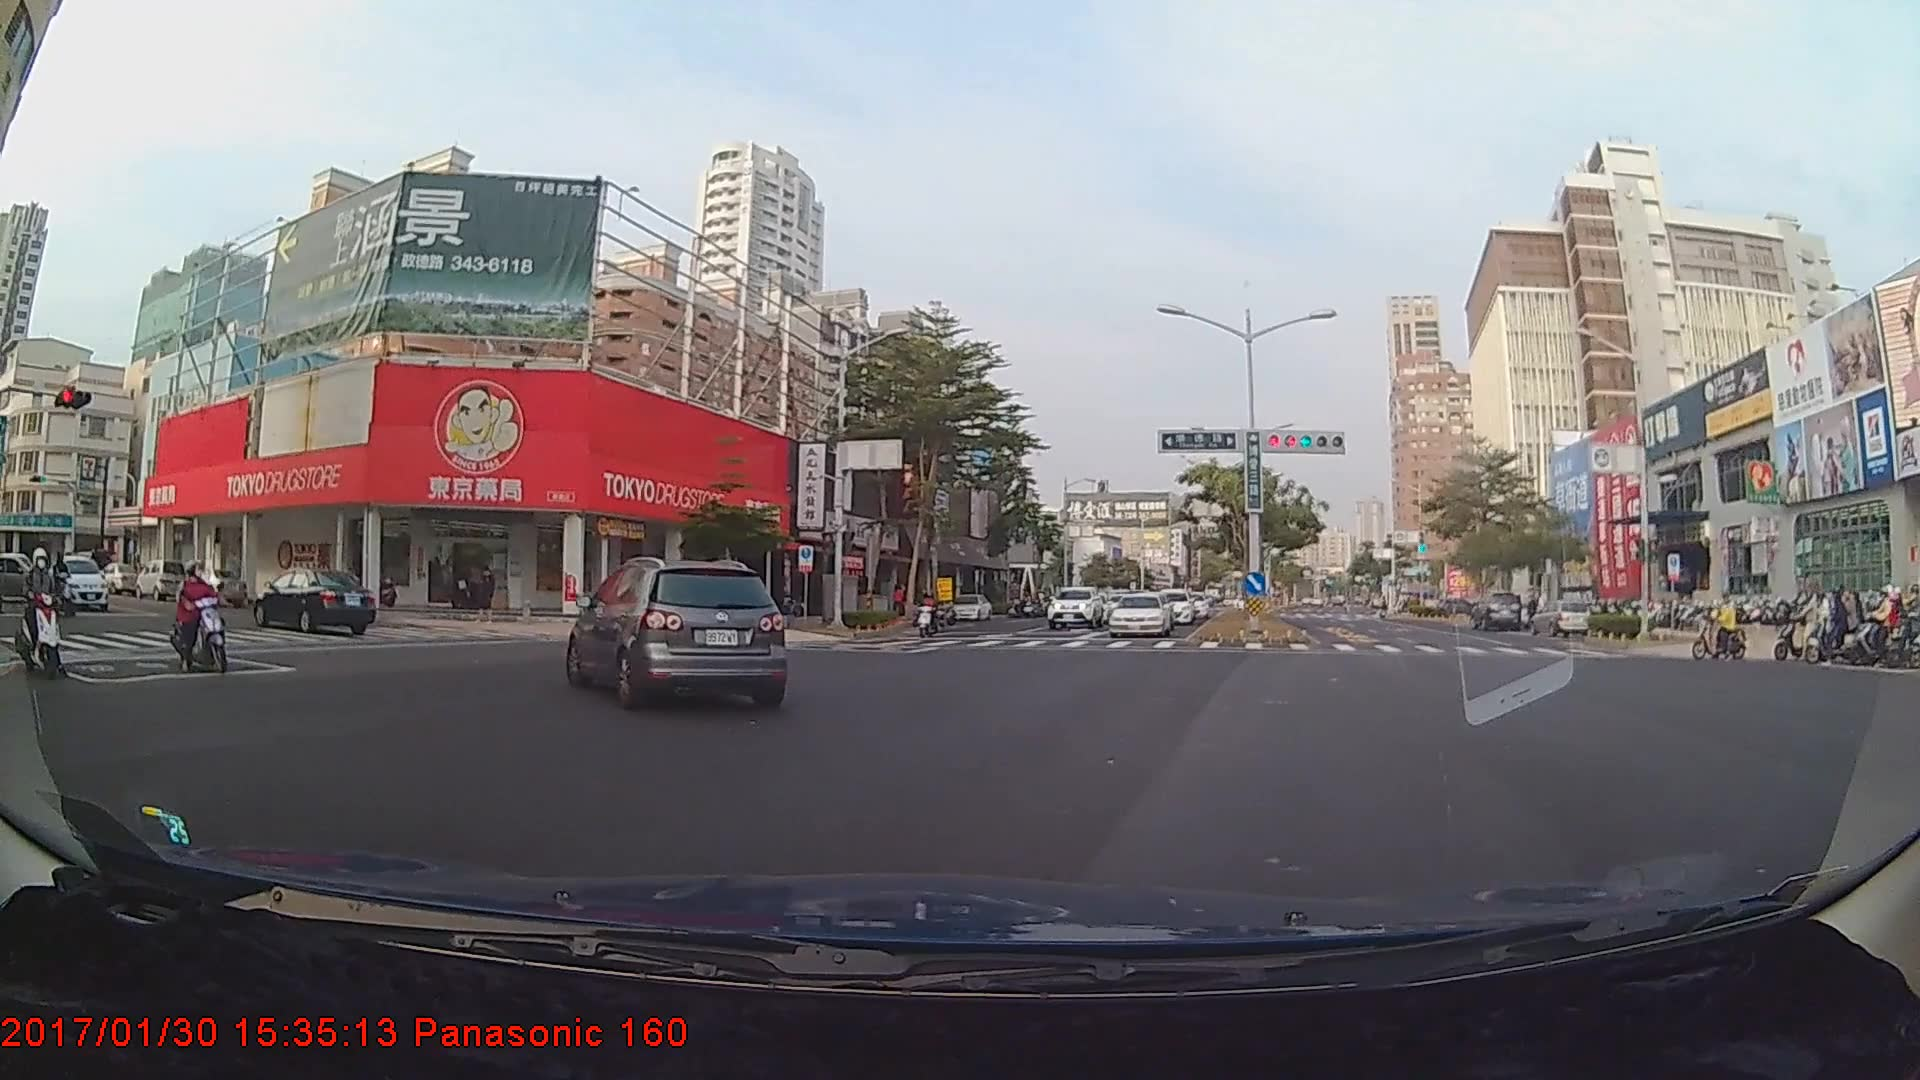rider: (167, 559, 232, 680), (11, 555, 73, 679), (1830, 586, 1908, 664), (1763, 600, 1842, 664), (1688, 586, 1748, 661), (913, 585, 939, 639)
vehicle: (570, 557, 784, 709), (255, 567, 376, 637), (48, 554, 110, 609), (1107, 591, 1171, 636), (1046, 584, 1103, 628), (1469, 591, 1521, 629), (1150, 586, 1192, 624), (948, 593, 990, 622)
